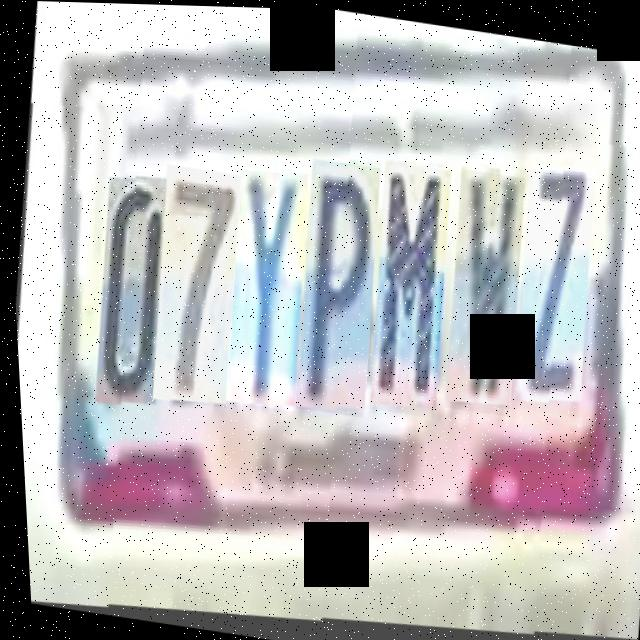0: (80, 168, 178, 406)
7: (136, 163, 250, 407)
M: (353, 159, 460, 417)
P: (280, 155, 389, 416)
W: (430, 165, 533, 414)
Y: (211, 163, 317, 410)
Z: (499, 165, 603, 414)
